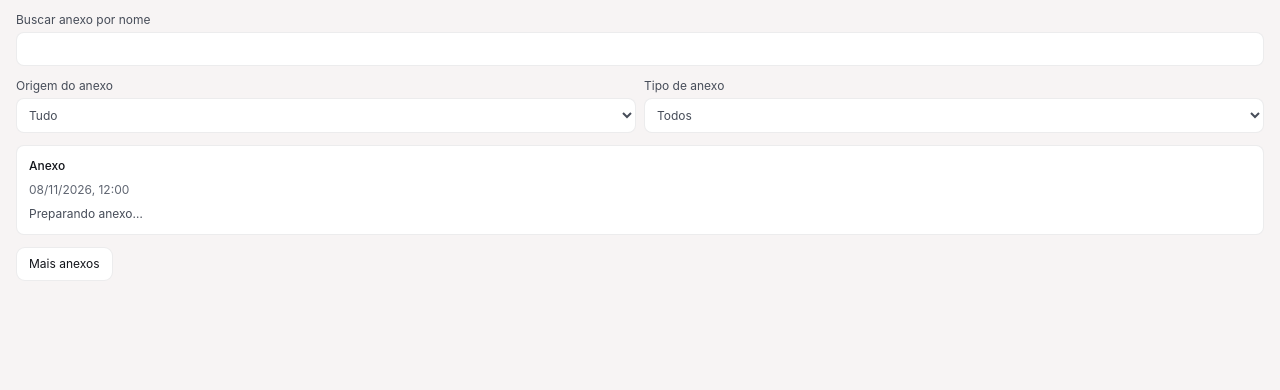
Test: anexos: paginação conserva arquivos anteriores
Click the button "Mais anexos" at (64,264), box x1=16 y1=247 x2=113 y2=281
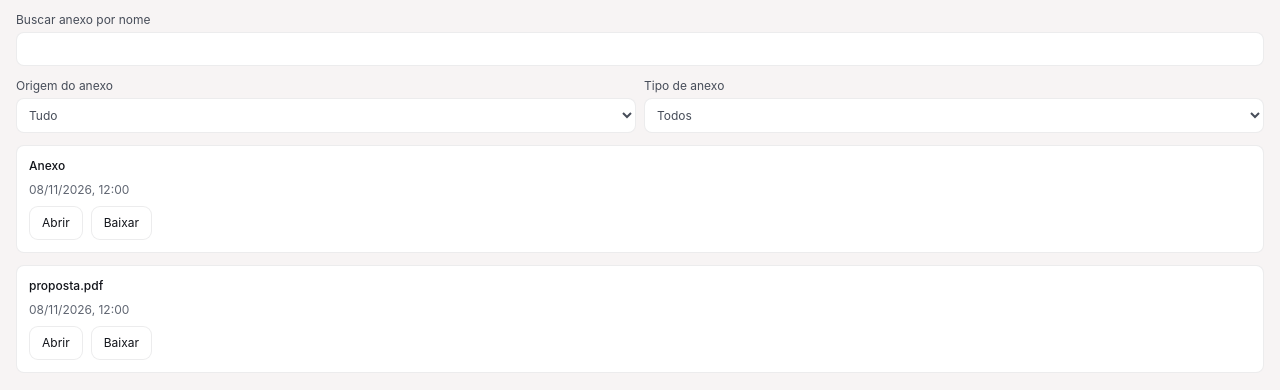
Check: the text "Anexo" is shown, box x1=29 y1=158 x2=65 y2=173
Check: the text "proposta.pdf" is shown, box x1=29 y1=278 x2=103 y2=293
